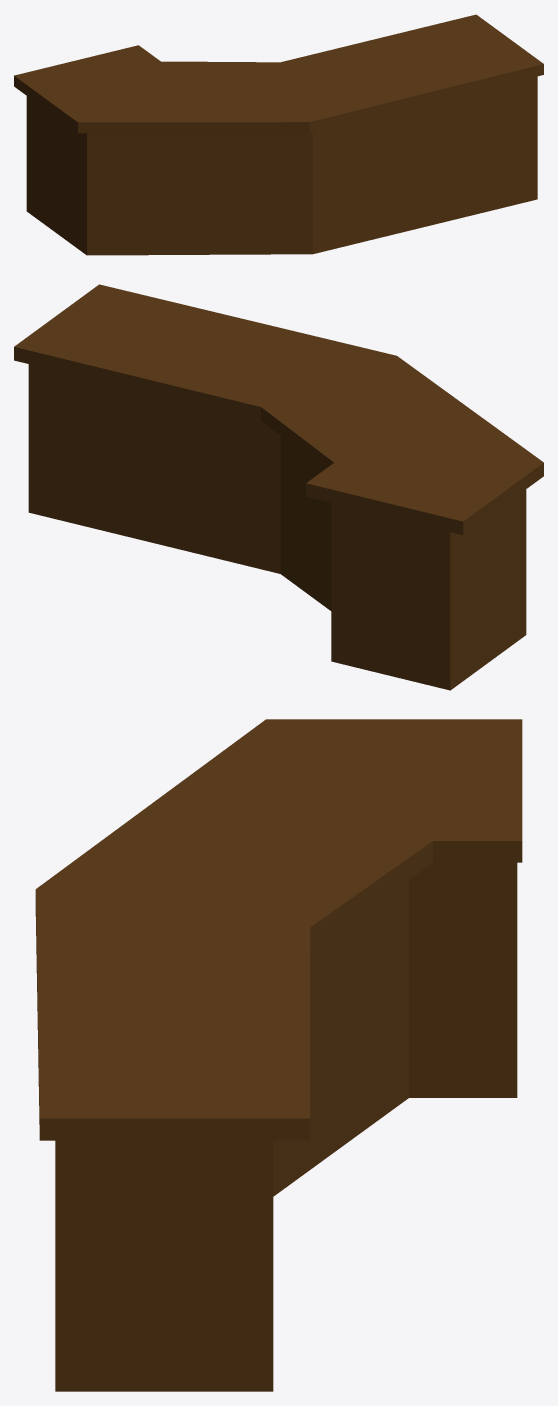
Rendered from table.dae.
3 renders of one model, top to bottom at view 1: azimuth 30°, elevation 25°; view 2: azimuth 150°, elevation 25°; view 3: azimuth 270°, elevation 25°, orthographic. The views are drawn at different scales.
Parts seen in each view (by area): view 1: Table-col; view 2: Table-col; view 3: Table-col.
Boxes of the visible parts, bbox=[...] form: Table-col: bbox=[14, 14, 543, 255]; Table-col: bbox=[14, 284, 543, 690]; Table-col: bbox=[35, 719, 522, 1391].
Size of the model in its own units: 6.76 by 3.48 by 2.17.
